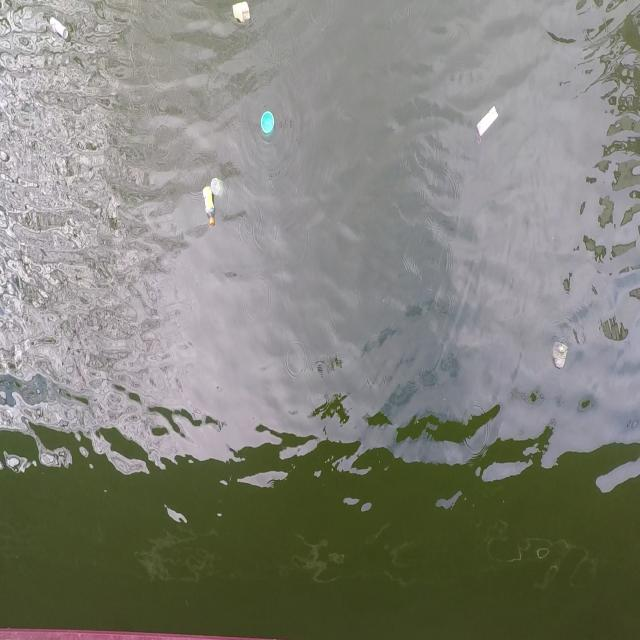Autre plastique: (552, 338, 570, 374)
Bouteille plastique: (200, 185, 213, 228), (210, 178, 223, 195)
Non plastique: (474, 101, 500, 147), (46, 15, 72, 39)
